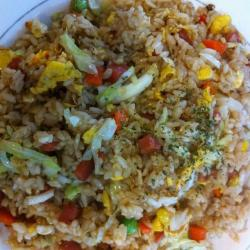rice: (29, 38, 221, 199)
